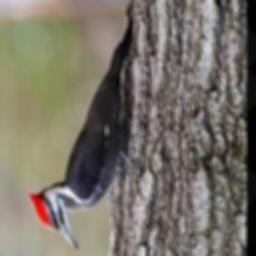Woodpecker: (28, 8, 138, 252)
